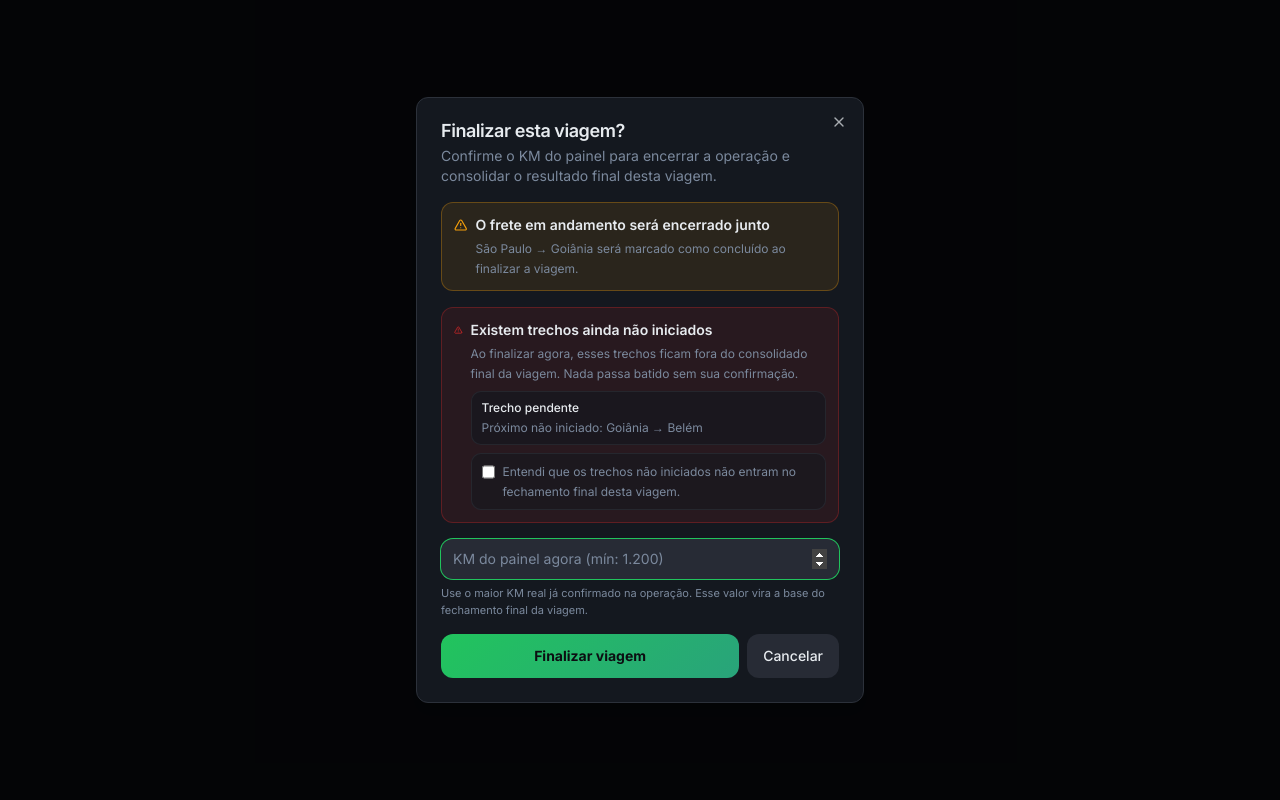
it: FinishTripModal › destaca trechos planned pendentes e exige confirmação explícita
Later steps or results of the test are not shown.
Check: the text "Existem trechos ainda não iniciados" is shown, box [470,321,712,338]
Check: the text "Próximo não iniciado: Goiânia → Belém" is shown, box [482,420,703,435]
In the number field with placeholder "KM do painel agora (mín: 1.200)": {"x": 640, "y": 559} [441,539,839,579], type "1400"
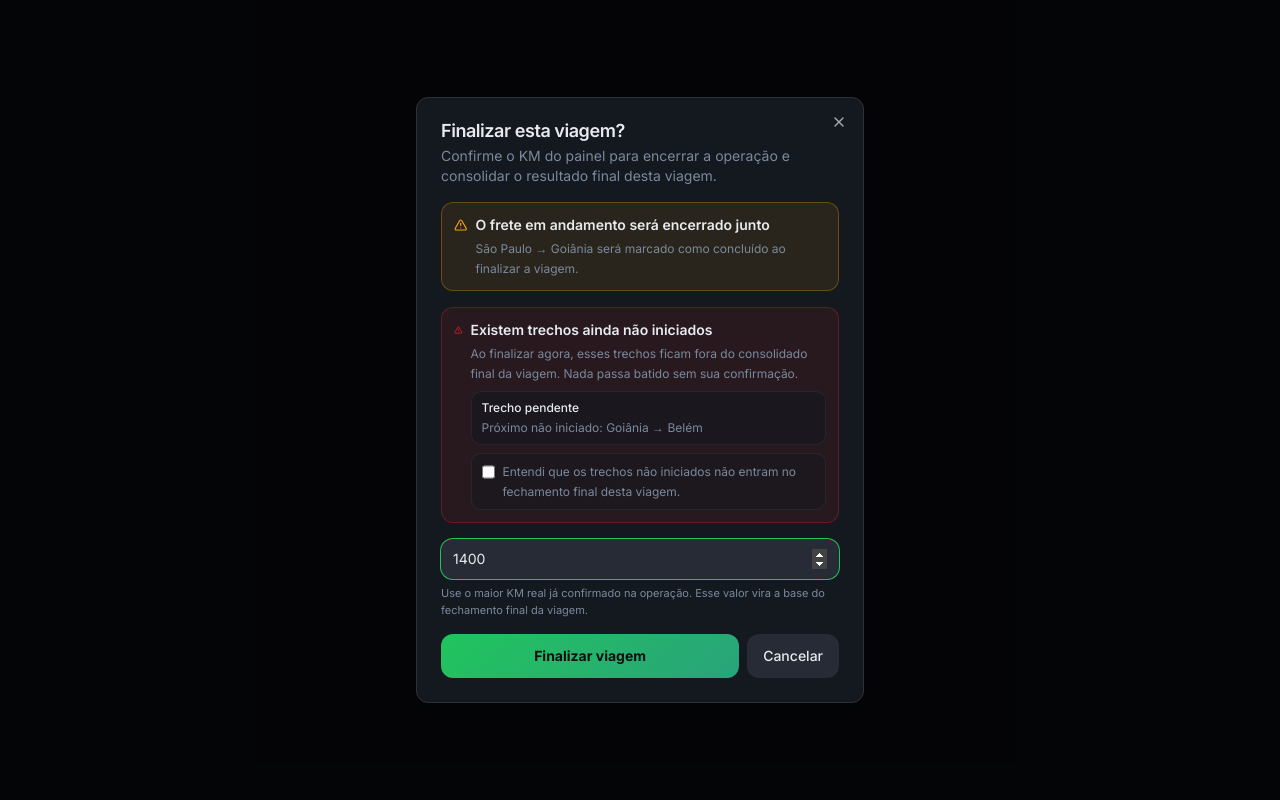
Click the button "Finalizar viagem": {"x": 590, "y": 656} [441,634,739,678]
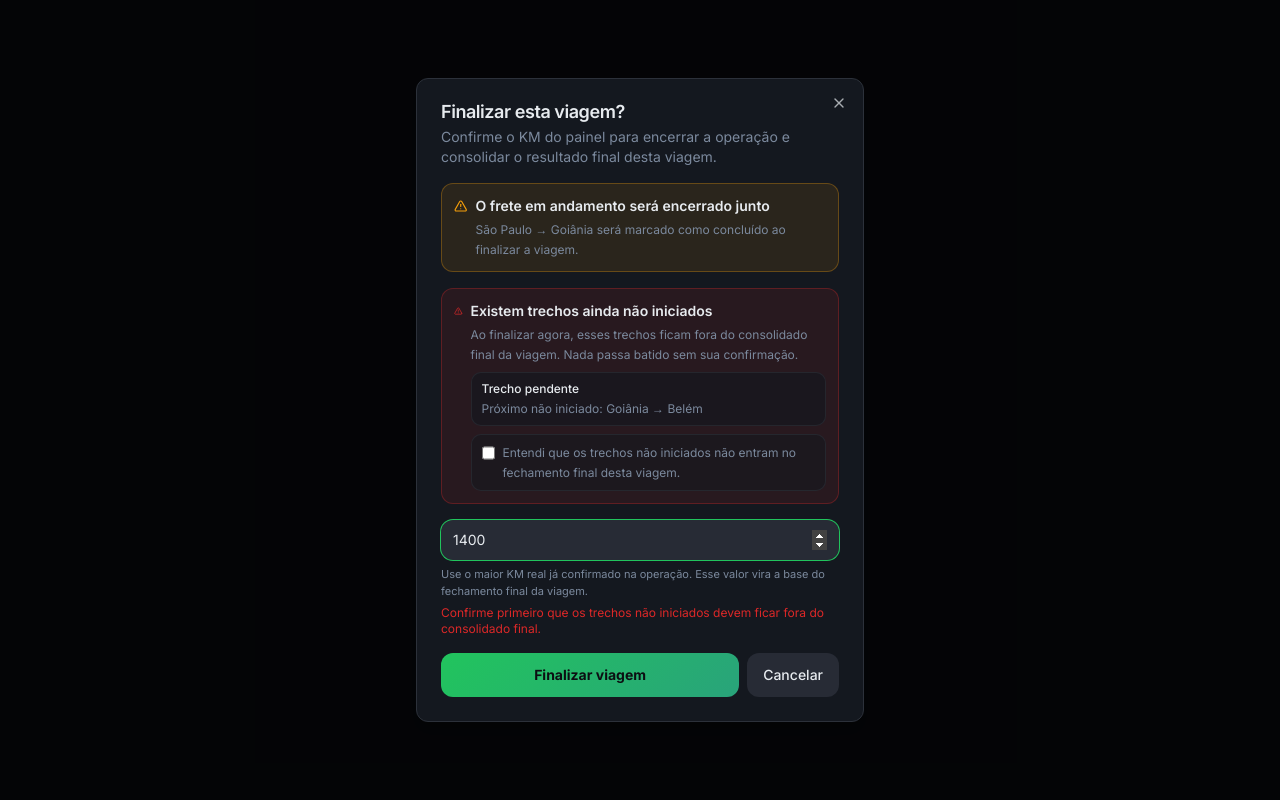
Check: the text "Confirme primeiro que os trechos não iniciados devem ficar fora do consolidado final" is shown, box [441,605,824,636]
